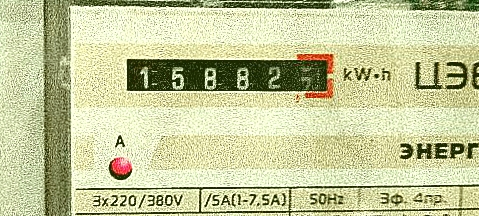1: (138, 60, 151, 89)
2: (265, 63, 282, 89)
5: (169, 63, 186, 93)
7: (298, 73, 311, 90)
8: (201, 63, 217, 91), (234, 63, 250, 91)
screen: (114, 41, 341, 105)
